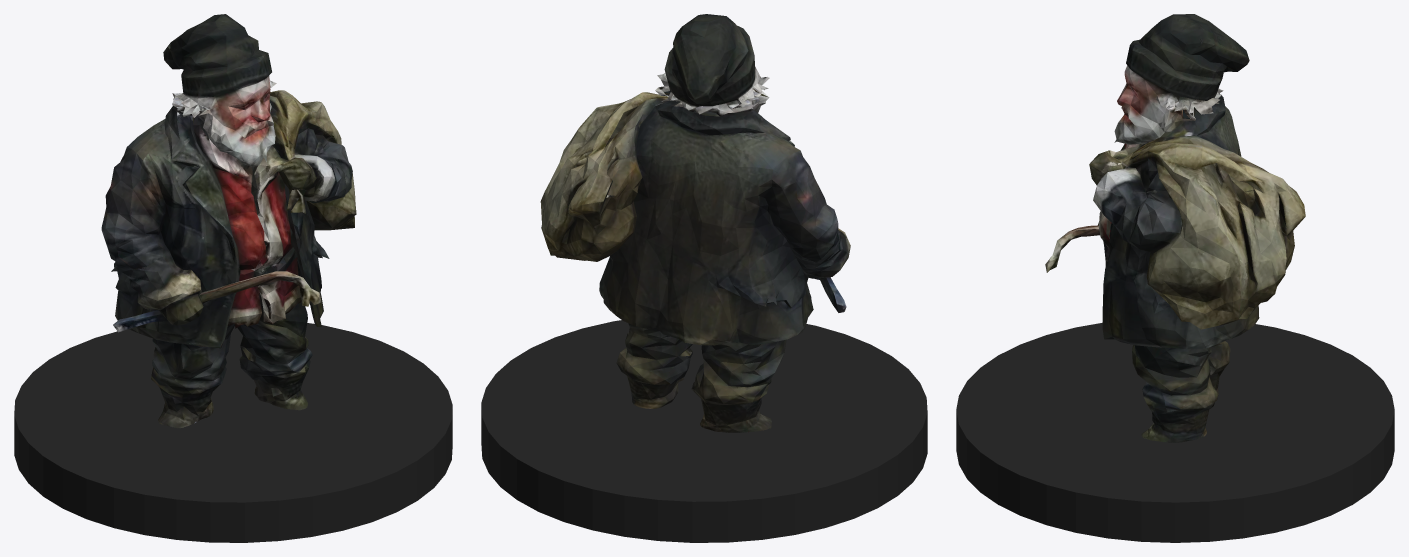
The model's file is forest-plum.glb.
3 renders of one model, left to right at view 1: azimuth 30°, elevation 25°; view 2: azimuth 150°, elevation 25°; view 3: azimuth 270°, elevation 25°, orthographic.
Visible parts, largest first — view 1: base, figure; view 2: figure, base; view 3: base, figure.
Part boxes in pixels (bbox=[...]): base: bbox=[14, 323, 452, 542]; figure: bbox=[101, 14, 356, 428]; figure: bbox=[540, 14, 850, 432]; base: bbox=[481, 320, 927, 542]; base: bbox=[956, 322, 1394, 542]; figure: bbox=[1045, 14, 1305, 442].
Bounding box in the file's own units: 1.18 × 1.27 × 1.18.
2 materials, 1 textured.
